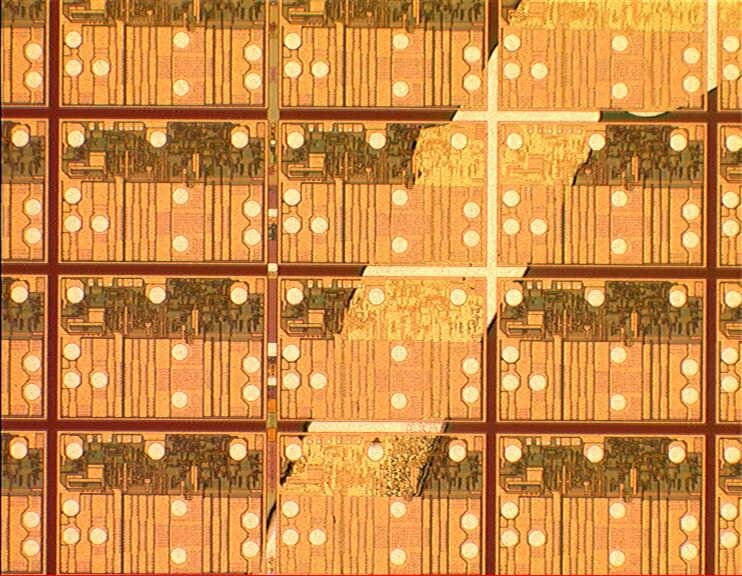BLOCK ETCH: (255, 1, 742, 576)
